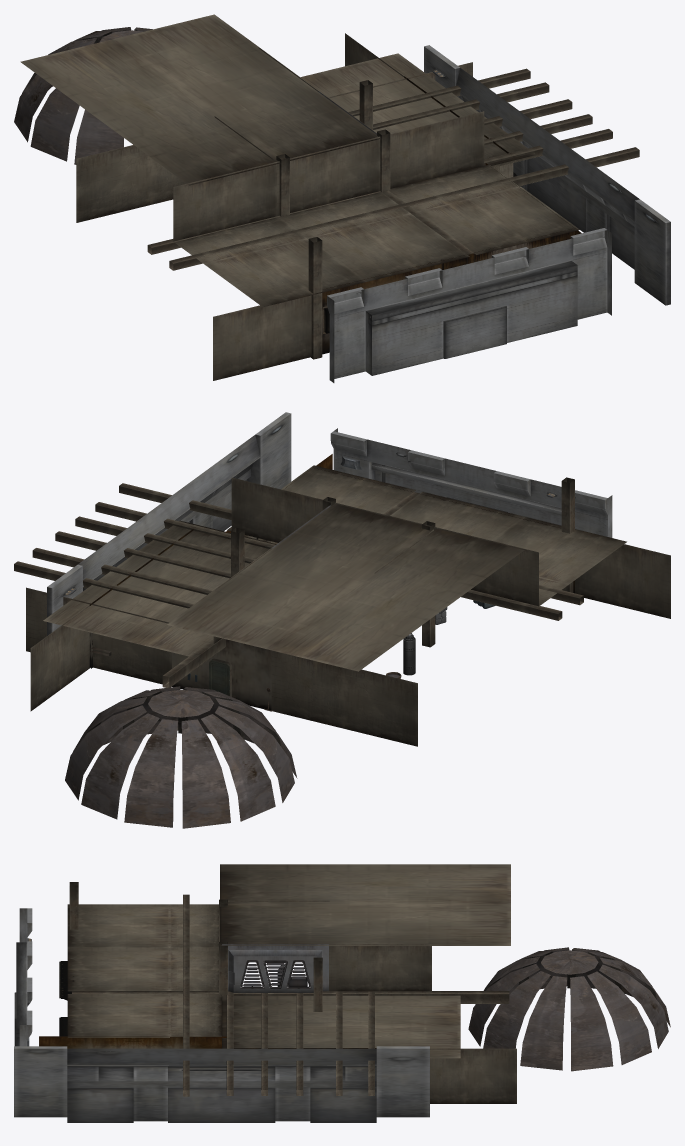
Rendered from env_nev_client_bunker_night_01_pre.glb.
3 views of the same model, one above another, from view 1: azimuth 30°, elevation 25°; view 2: azimuth 150°, elevation 25°; view 3: azimuth 270°, elevation 25° (orthographic). The views are drawn at different scales.
Parts seen in each view (by area): view 1: nev_client_wall_06_mesh (16), nev_wall_02_mesh (2), nev_wall_06_mesh (2), nev_client_wall_06_mesh (14), nev_client_wall_06_mesh (15), nev_client_wall_06_mesh (9), nev_client_wall_06_mesh (2), nev_armorer_room_simple_01_mesh, nev_client_wall_06_mesh (3), nev_client_wall_06_mesh (22), nev_client_wall_06_mesh (5), nev_client_wall_06_mesh (10) (+20 smaller); view 2: nev_client_wall_06_mesh (16), nev_armorer_room_simple_01_mesh, nev_client_wall_06_mesh (14), nev_wall_02_mesh (2), nev_wall_06_mesh (2), nev_client_wall_06_mesh (22), nev_client_wall_06_mesh (15), nev_client_wall_06_mesh (5), nev_client_wall_06_mesh (10), nev_client_wall_06_mesh (21), nev_client_walldoor_01a_mesh, nev_client_wall_06_mesh (18) (+14 smaller); view 3: nev_wall_06_mesh (2), nev_client_wall_06_mesh (16), nev_armorer_room_simple_01_mesh, nev_client_wall_06_mesh (14), nev_client_wall_06_mesh (20), nev_client_wall_06_mesh (18), nev_client_wall_05_mesh, nev_client_wall_06_mesh (2), nev_client_wall_06_mesh (9), nev_client_wall_06_mesh (5), nev_client_wall_03_mesh, nev_wall_02_mesh (2) (+15 smaller).
Part boxes in pixels (x1,y1,x2,y2): nev_client_wall_06_mesh (16): (20, 14, 380, 185); nev_wall_02_mesh (2): (327, 228, 611, 382); nev_wall_06_mesh (2): (424, 45, 670, 305); nev_client_wall_06_mesh (14): (300, 53, 536, 165); nev_client_wall_06_mesh (15): (213, 295, 311, 380); nev_client_wall_06_mesh (9): (418, 186, 579, 254); nev_client_wall_06_mesh (2): (308, 213, 469, 281); nev_armorer_room_simple_01_mesh: (14, 27, 152, 164); nev_client_wall_06_mesh (3): (173, 162, 276, 241); nev_client_wall_06_mesh (22): (76, 145, 186, 222); nev_client_wall_06_mesh (5): (204, 238, 365, 306); nev_client_wall_06_mesh (10): (390, 111, 484, 188); nev_client_wall_06_mesh (16): (167, 504, 524, 671); nev_armorer_room_simple_01_mesh: (65, 686, 297, 828); nev_client_wall_06_mesh (14): (43, 520, 276, 656); nev_wall_02_mesh (2): (330, 428, 612, 537); nev_wall_06_mesh (2): (47, 412, 291, 635); nev_client_wall_06_mesh (22): (271, 650, 417, 746); nev_client_wall_06_mesh (15): (575, 544, 670, 618); nev_client_wall_06_mesh (5): (492, 517, 626, 584); nev_client_wall_06_mesh (10): (231, 477, 331, 542); nev_client_wall_06_mesh (21): (26, 587, 171, 684); nev_client_walldoor_01a_mesh: (172, 639, 271, 710); nev_client_wall_06_mesh (18): (30, 605, 89, 711); nev_wall_06_mesh (2): (14, 1046, 429, 1122); nev_client_wall_06_mesh (16): (220, 864, 510, 945); nev_armorer_room_simple_01_mesh: (468, 947, 670, 1071); nev_client_wall_06_mesh (14): (222, 995, 460, 1058); nev_client_wall_06_mesh (20): (329, 944, 431, 991); nev_client_wall_06_mesh (18): (430, 1048, 516, 1103); nev_client_wall_05_mesh: (222, 944, 328, 992); nev_client_wall_06_mesh (2): (67, 947, 169, 991); nev_client_wall_06_mesh (9): (67, 994, 169, 1037); nev_client_wall_06_mesh (5): (67, 904, 169, 947); nev_client_wall_03_mesh: (39, 1036, 226, 1048); nev_wall_02_mesh (2): (14, 908, 32, 1046).
Bounding box in the file's own units: 33.02 × 8 × 44.49.
Materials: 23 (23 with a texture image).
